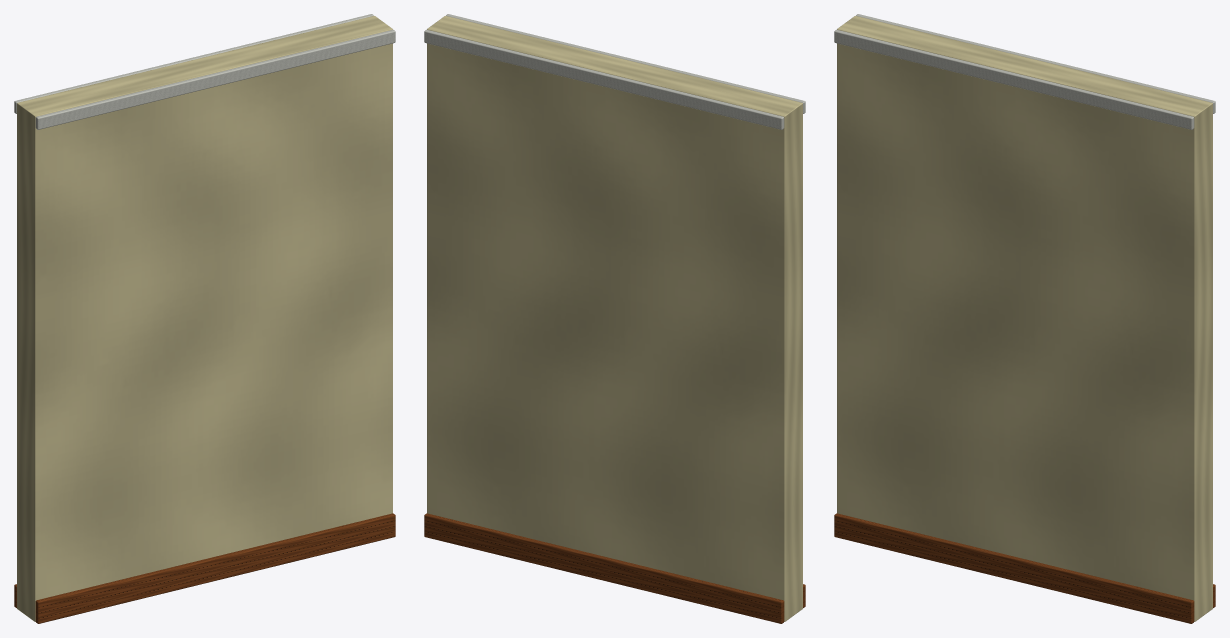
Rendered from three-d-liminal-spaces-kit-liminal-spaces-kit-wall-straight-ff337ab7.glb.
3 views of the same model, side by side, from view 1: azimuth 30°, elevation 25°; view 2: azimuth 150°, elevation 25°; view 3: azimuth 330°, elevation 25° (orthographic).
Visible parts, largest first — view 1: wall-straight; view 2: wall-straight; view 3: wall-straight.
Boxes of the visible parts, x1,y1,x2,y2 form: wall-straight: (14,14,395,623); wall-straight: (424,14,805,623); wall-straight: (834,14,1215,623).
Size of the model in its own units: 2 by 2.7 by 0.2361.
Materials: 3 (3 with a texture image).
